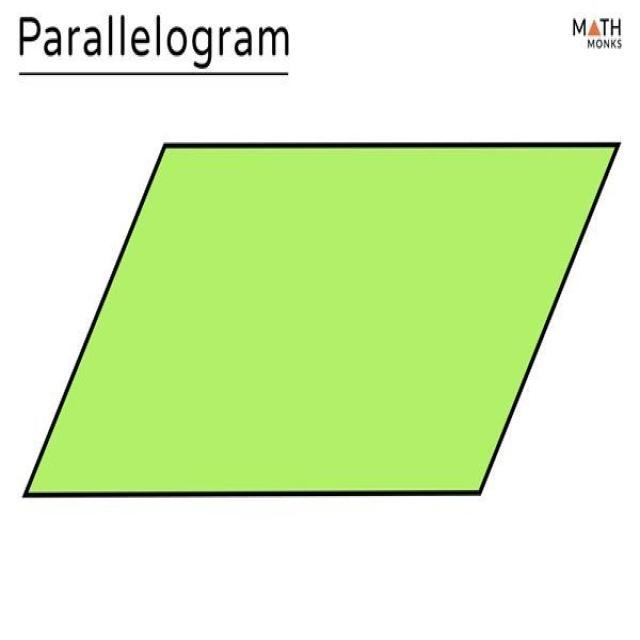Jajar-Genjang: (4, 83, 628, 525)
